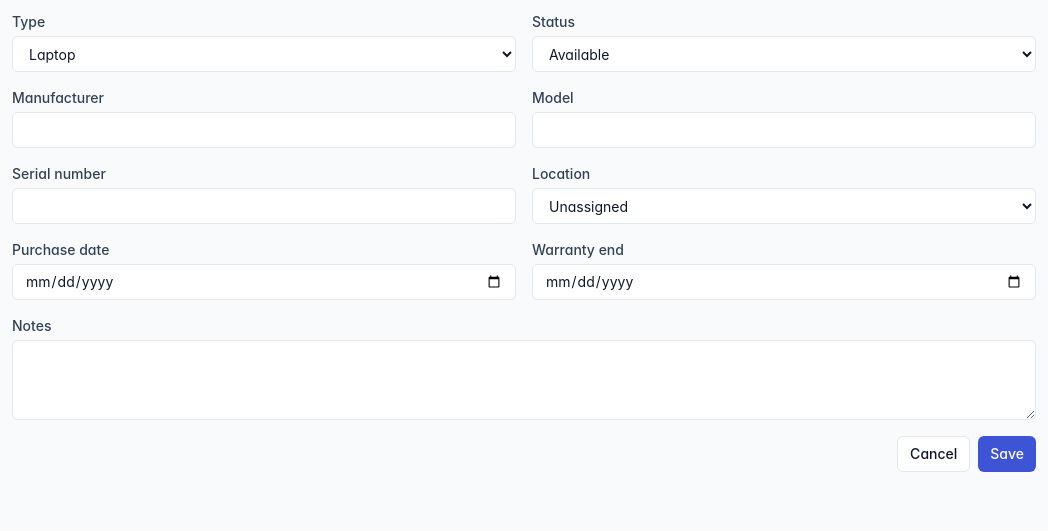
Test: DeviceForm › validates required fields
Click the button "Save" at (1007, 454), box [978,436,1036,472]
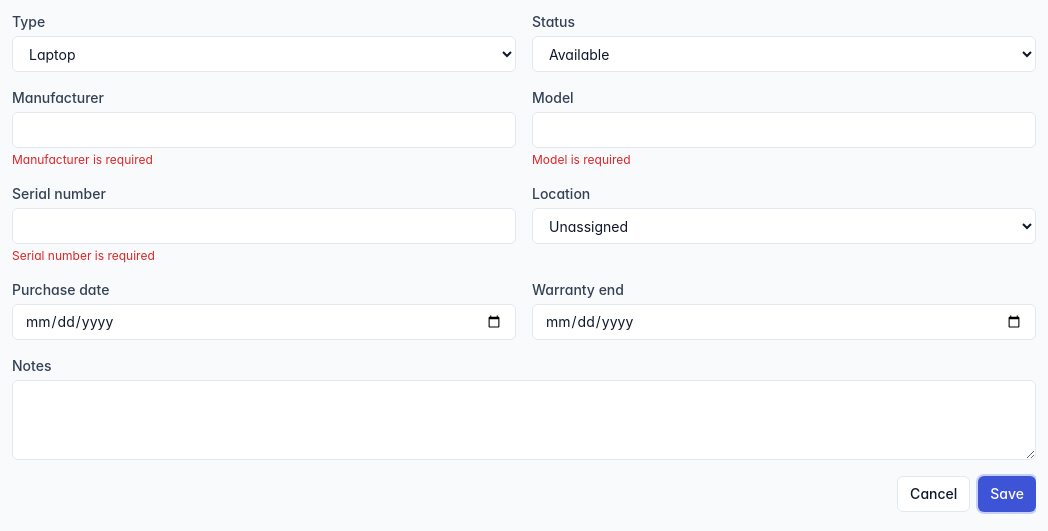
Expected: the text "Manufacturer is required" is shown, [12,152,153,167]
